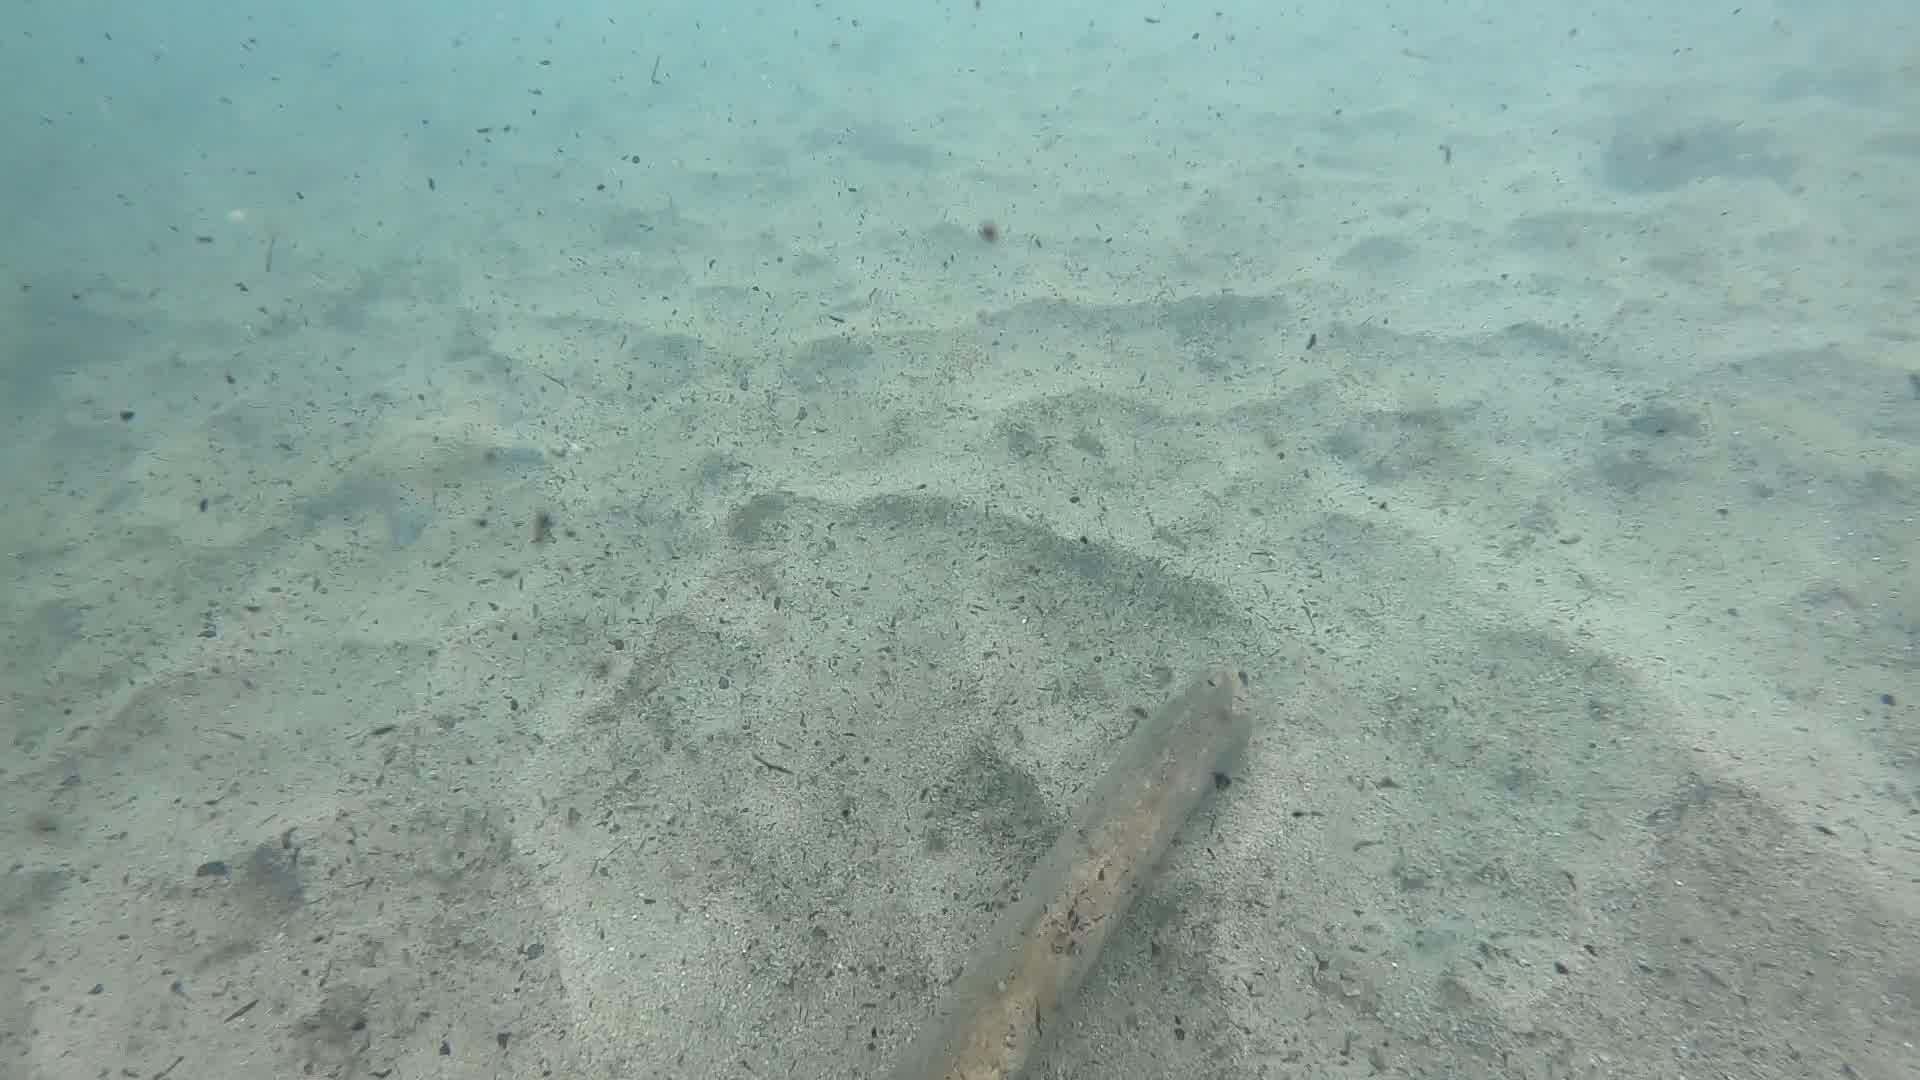wood: (881, 667, 1253, 1080)
